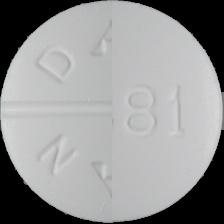52959-167: (0, 0, 224, 224)
